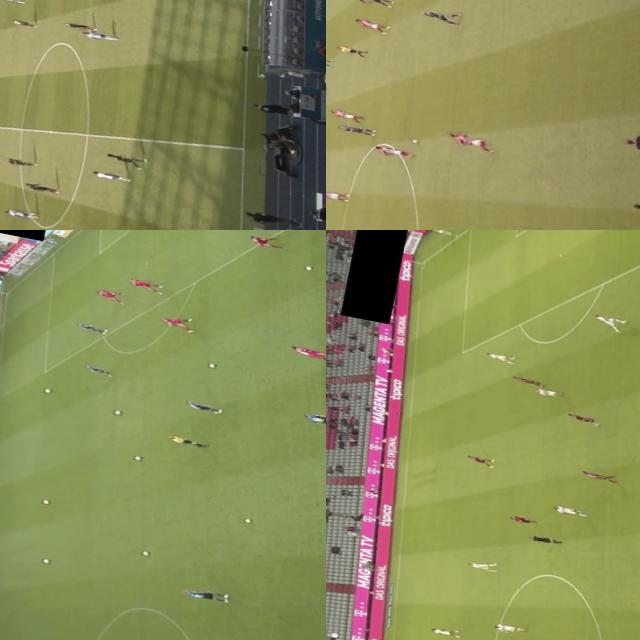ball: (38, 556, 53, 566), (205, 360, 220, 370), (131, 455, 147, 464), (301, 264, 316, 272), (409, 136, 420, 144), (40, 498, 51, 506), (241, 517, 252, 525), (110, 409, 122, 416), (139, 549, 149, 557), (42, 387, 52, 394)
player: (100, 146, 150, 170), (182, 584, 232, 606), (447, 134, 500, 154), (87, 168, 134, 187), (417, 7, 461, 27), (586, 310, 626, 332), (21, 178, 58, 198), (0, 204, 39, 222), (507, 373, 546, 391), (288, 345, 326, 363), (480, 349, 520, 366), (372, 144, 414, 160), (1, 154, 38, 172), (349, 16, 388, 33), (83, 28, 119, 46), (124, 276, 164, 292), (159, 313, 192, 331), (62, 18, 98, 34), (578, 469, 614, 485), (492, 620, 524, 638), (564, 411, 602, 426), (94, 287, 127, 304), (338, 122, 373, 138), (184, 400, 224, 414), (425, 625, 462, 640), (505, 514, 537, 530), (326, 108, 362, 122), (74, 322, 110, 336), (528, 385, 564, 399), (456, 452, 492, 466), (301, 410, 326, 429), (552, 504, 585, 518), (248, 233, 277, 248), (7, 16, 38, 29), (326, 186, 349, 203), (83, 364, 114, 376), (355, 0, 394, 6), (466, 562, 492, 571), (0, 0, 23, 3)
